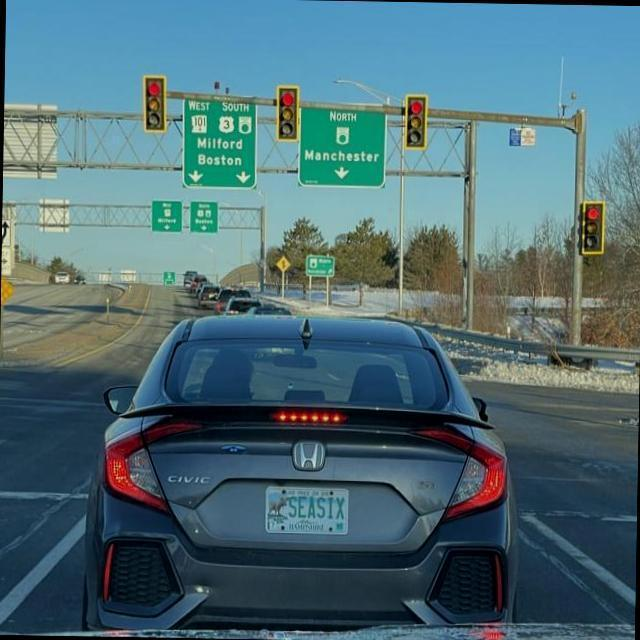license-plate: (261, 478, 376, 556)
